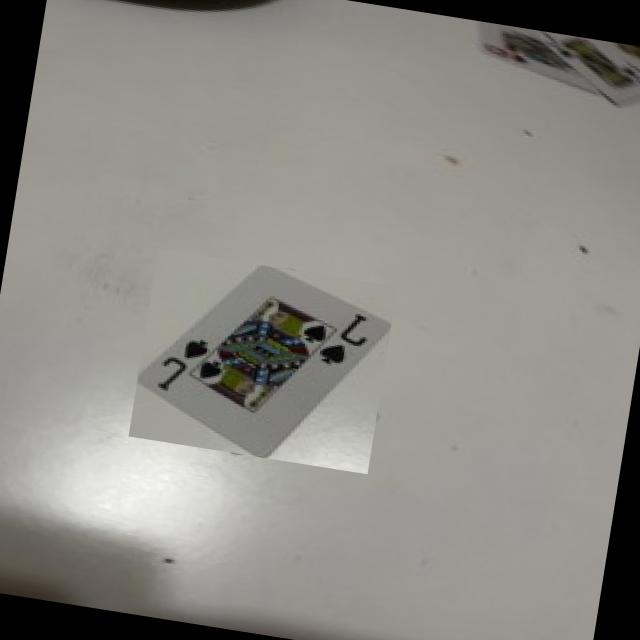Jack of spades: (139, 266, 391, 458)
